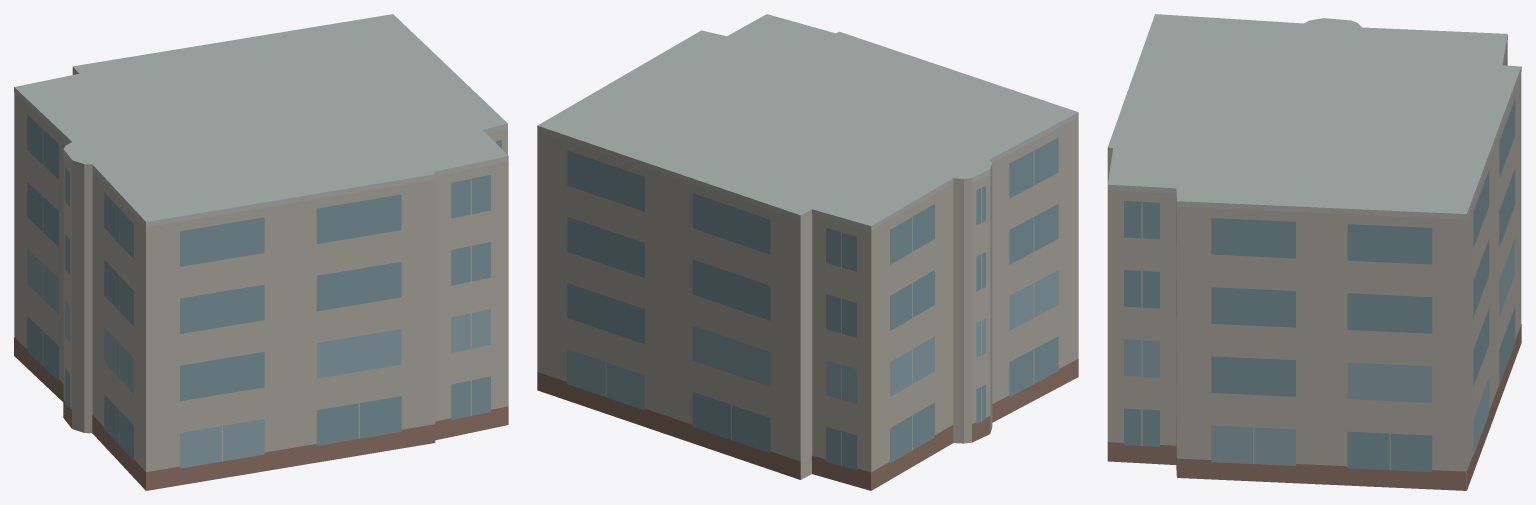
Rendered from survey-upis-32630366.glb.
3 renders of one model, left to right at view 1: azimuth 30°, elevation 25°; view 2: azimuth 150°, elevation 25°; view 3: azimuth 270°, elevation 25°, orthographic. The views are drawn at different scales.
Parts seen in each view (by area): view 1: survey-upis-32630366.tmp; view 2: survey-upis-32630366.tmp; view 3: survey-upis-32630366.tmp.
Part boxes in pixels (box(x1,y1,x2,y2)): survey-upis-32630366.tmp: box(14, 14, 508, 490); survey-upis-32630366.tmp: box(537, 14, 1078, 490); survey-upis-32630366.tmp: box(1107, 14, 1521, 490).
Bounding box in the file's own units: 19.55 × 12.6 × 17.09.
